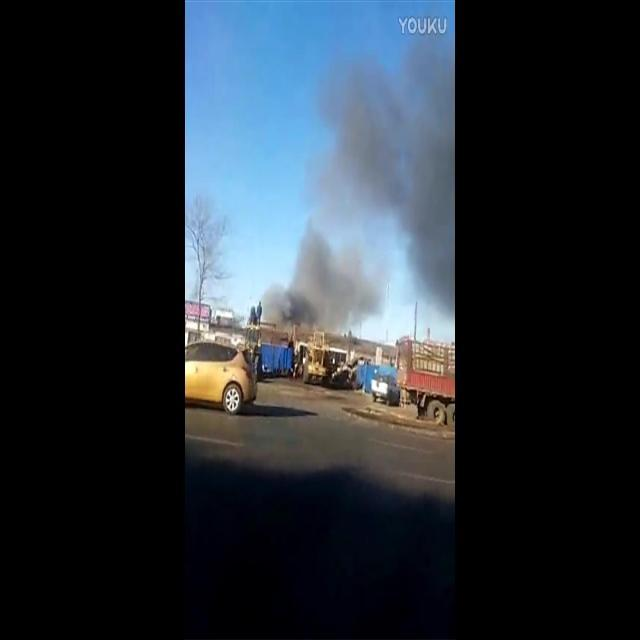Smoke: (260, 31, 454, 336)
